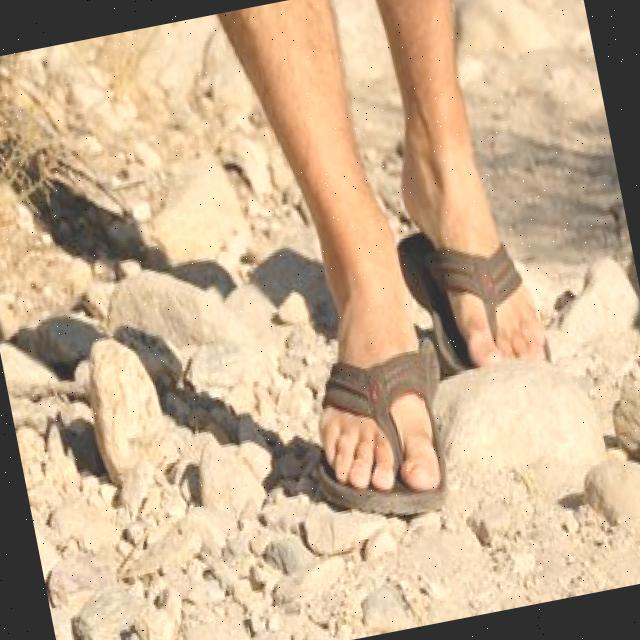no-boots: (270, 254, 470, 547), (387, 104, 563, 401)
